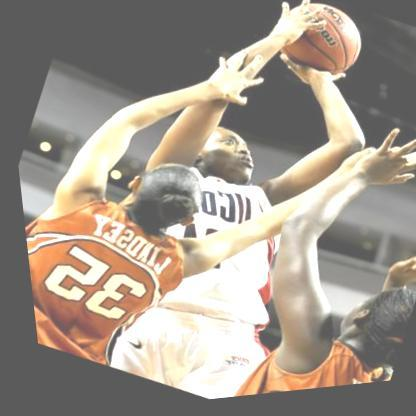basketball: (270, 0, 379, 97)
